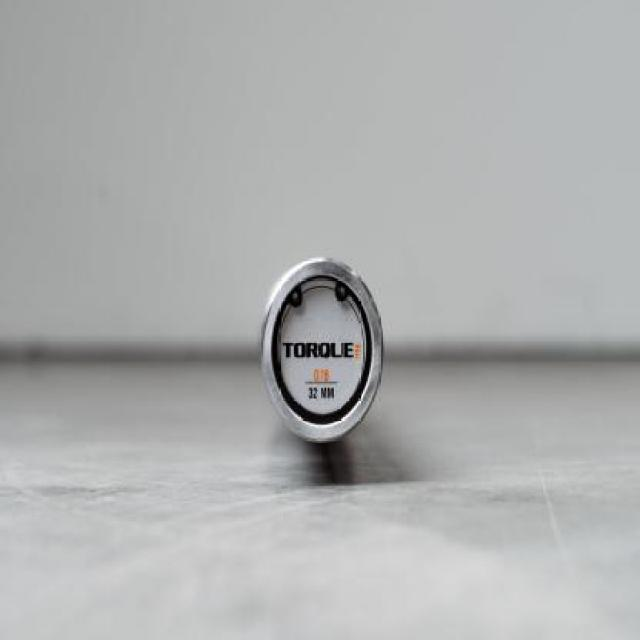Barbell: (250, 244, 402, 453)
